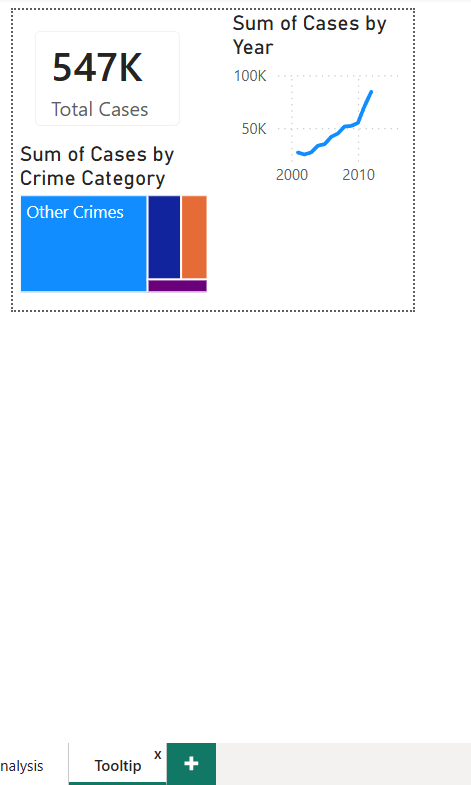

What the dashboard file says about the page in this screenshot:
{"tool":"powerbi","page":{"name":"Tooltip","canvas":[320,240],"ordinal":4},"visuals":[{"type":"cardVisual","fields":{"Data":["in.Total Cases"]},"box":[0,0,150,110],"z":0},{"type":"lineChart","fields":{"Y":["Sum(in.Cases)"],"Category":["in.Year"]},"box":[170,0,150,150],"z":1000},{"type":"treemap","fields":{"Group":["in.Crime Category"],"Values":["Sum(in.Cases)"]},"box":[0,104.5,160,126.4],"z":2000}]}

Visuals, with their boxes on the page's 320x240 design canvas (x1, y1, x2, y2). These are canvas units, not pixel positions in the 471x785 screenshot, which may show the page scaled, cropped or inside an application window:
cardVisual - in.Total Cases: [x1=0, y1=0, x2=150, y2=110]
lineChart - Sum(in.Cases) x in.Year: [x1=170, y1=0, x2=320, y2=150]
treemap - in.Crime Category x Sum(in.Cases): [x1=0, y1=104, x2=160, y2=231]
